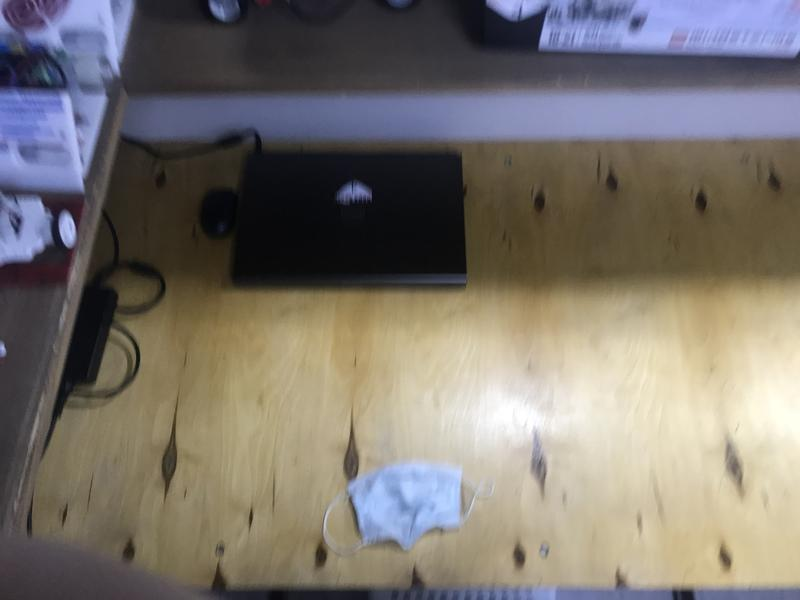medical_mask: (324, 461, 492, 553)
